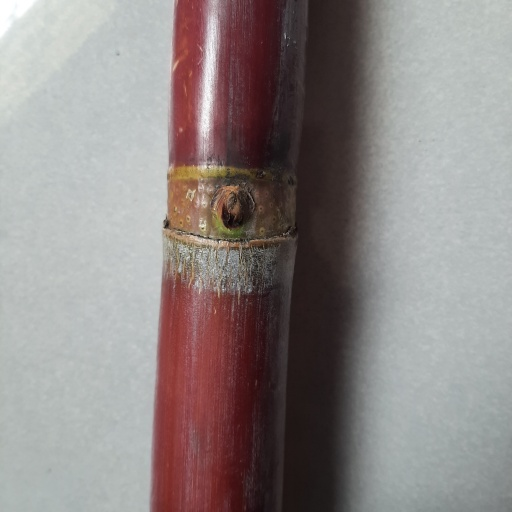Bud: (219, 187, 251, 230)
